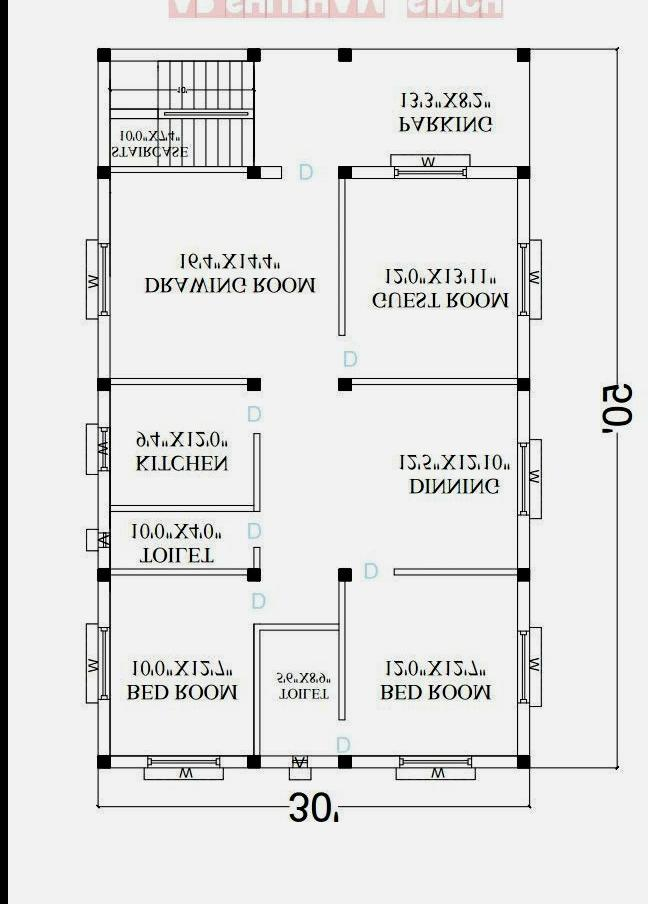Blueprint: (90, 44, 538, 778)
wall: (108, 46, 250, 64), (95, 58, 112, 168), (337, 177, 348, 338), (350, 376, 519, 386), (109, 566, 249, 578), (337, 578, 348, 723), (392, 566, 520, 578), (251, 622, 262, 758), (108, 503, 255, 513), (95, 312, 113, 380), (95, 176, 112, 246), (515, 177, 532, 246), (108, 166, 250, 174), (109, 378, 248, 386), (515, 314, 531, 380), (250, 622, 342, 633), (97, 470, 112, 534), (95, 697, 111, 756), (515, 514, 531, 570), (516, 389, 532, 445), (516, 701, 532, 756), (516, 580, 532, 633), (470, 753, 519, 770), (350, 754, 402, 770), (252, 432, 262, 514), (350, 164, 397, 181), (96, 580, 112, 629), (464, 166, 518, 180), (95, 387, 112, 429), (109, 754, 150, 770), (259, 753, 295, 771), (306, 754, 340, 770), (218, 754, 248, 770), (259, 164, 284, 181), (96, 545, 112, 570), (252, 544, 261, 570)
